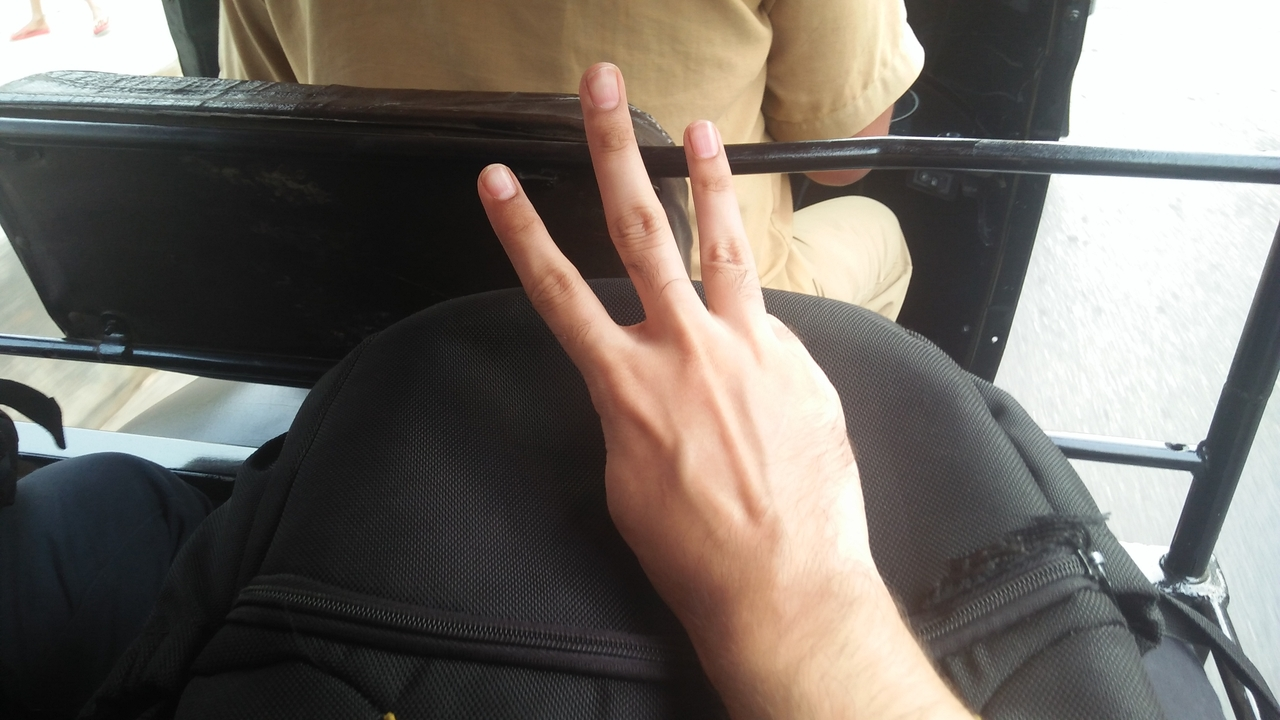fingertip: (468, 154, 528, 212), (574, 58, 628, 112), (680, 108, 732, 162)
